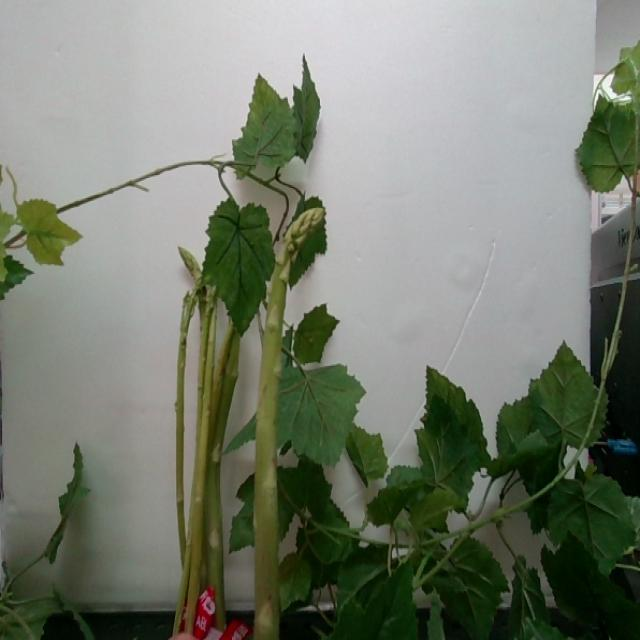aspargus: (251, 206, 319, 640)
